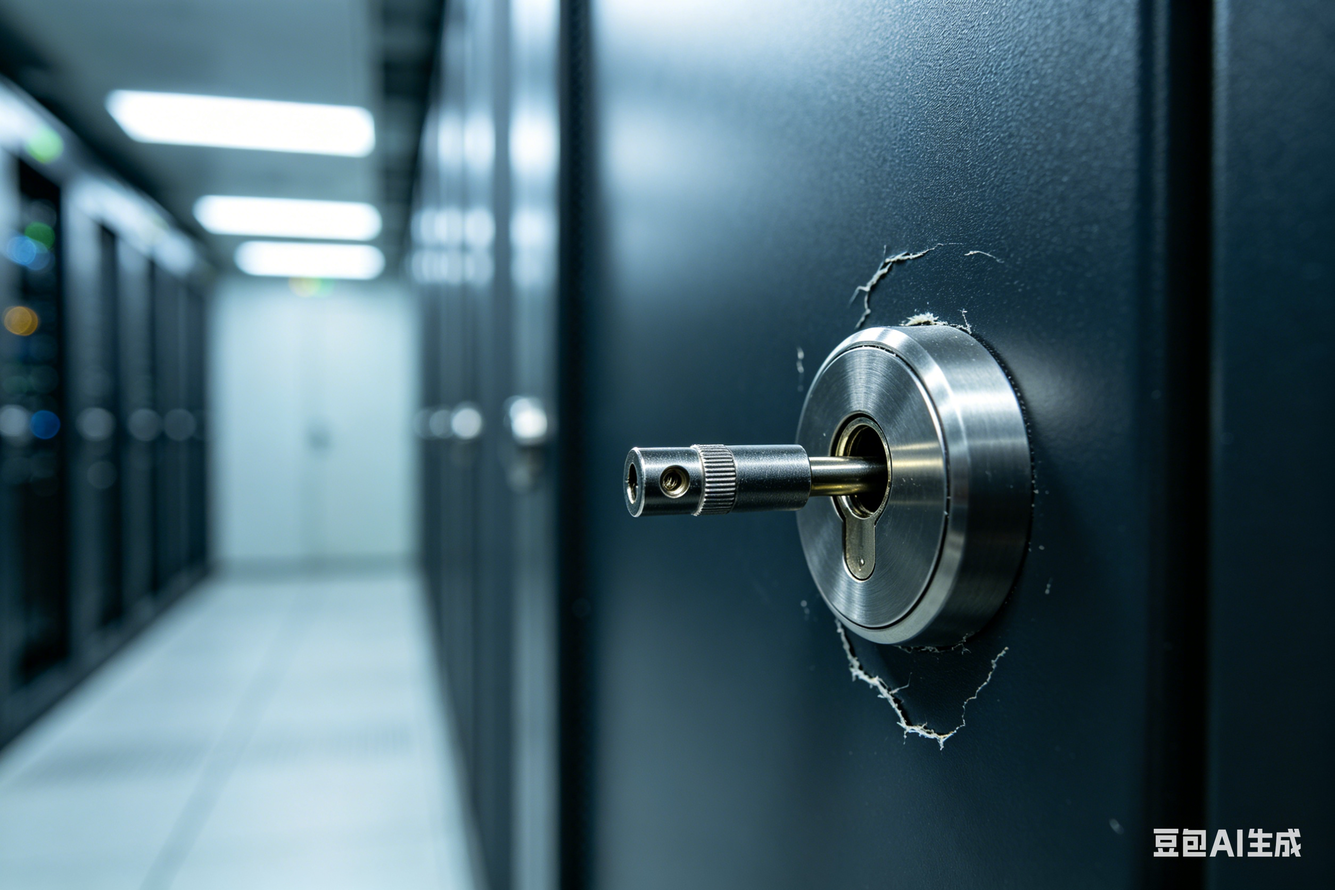BadLock: (802, 246, 1036, 747)
